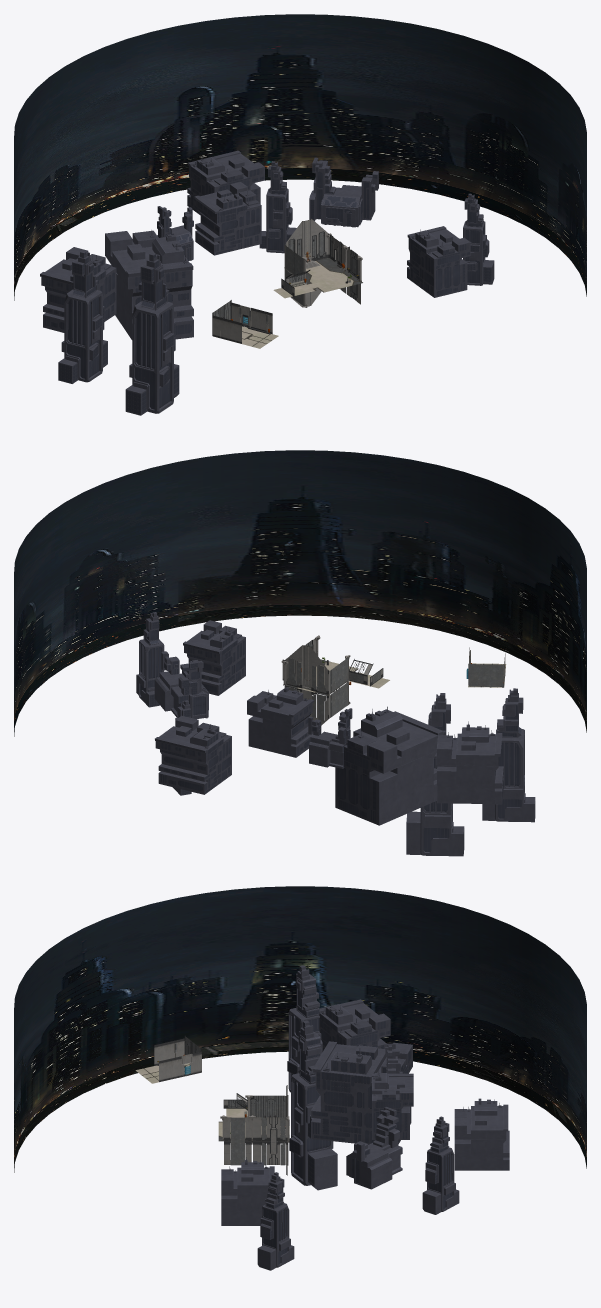
Rendered from env_man_sundari_throne_01_pre.glb.
3 renders of one model, top to bottom at view 1: azimuth 30°, elevation 25°; view 2: azimuth 150°, elevation 25°; view 3: azimuth 270°, elevation 25°, orthographic.
Visible parts, largest first — view 1: brac_skycyllinder_mesh, man_sundari_city_block_02 (3), man_sundari_city_block_01, man_sundari_city_block_02 (4), man_sundari_city_block_01 (1), man_sundari_city_block_01 (3), man_sundari_city_block_03 (1), man_sundari_city_block_01 (4), man_sundari_city_block_01 (2), man_sundari_city_block_02 (1), man_sundari_city_block_02 (2), man_sundari_floor_01 (+3 smaller); view 2: brac_skycyllinder_mesh, man_sundari_city_block_01, man_sundari_city_block_01 (4), man_sundari_city_block_01 (2), man_sundari_city_block_01 (1), man_sundari_city_block_02 (4), man_sundari_city_block_02 (3), man_sundari_city_block_01 (3), man_sundari_city_block_03 (1), man_sundari_city_block_02 (2), man_sundari_city_block_03, man_sundari_wall_01 (+2 smaller); view 3: brac_skycyllinder_mesh, man_sundari_city_block_01, man_sundari_city_block_02 (3), man_sundari_city_block_01 (2), man_sundari_city_block_03 (1), man_sundari_city_block_01 (3), man_sundari_city_block_01 (4), man_sundari_city_block_02 (2), man_sundari_city_block_02 (1), man_sundari_city_block_02 (4), man_sundari_city_block_01 (1), man_sundari_wall_04_glass (+3 smaller).
Part boxes in pixels (x1,y1,x2,y2): brac_skycyllinder_mesh: (14,14,586,300); man_sundari_city_block_02 (3): (125,252,179,415); man_sundari_city_block_01: (105,229,193,339); man_sundari_city_block_02 (4): (58,250,107,383); man_sundari_city_block_01 (1): (194,182,261,255); man_sundari_city_block_01 (3): (407,226,470,297); man_sundari_city_block_03 (1): (309,157,378,227); man_sundari_city_block_01 (4): (40,247,116,332); man_sundari_city_block_01 (2): (187,150,264,215); man_sundari_city_block_02 (1): (259,161,296,253); man_sundari_city_block_02 (2): (463,193,494,285); man_sundari_floor_01: (273,258,362,298); brac_skycyllinder_mesh: (14,450,586,736); man_sundari_city_block_01: (335,706,443,825); man_sundari_city_block_01 (4): (436,721,503,804); man_sundari_city_block_01 (2): (155,715,231,794); man_sundari_city_block_01 (1): (247,684,314,757); man_sundari_city_block_02 (4): (482,688,535,822); man_sundari_city_block_02 (3): (406,693,464,856); man_sundari_city_block_01 (3): (183,620,245,695); man_sundari_city_block_03 (1): (154,651,208,719); man_sundari_city_block_02 (2): (136,612,164,707); man_sundari_city_block_03: (308,708,352,768); man_sundari_wall_01: (285,645,328,694); brac_skycyllinder_mesh: (14,886,586,1172); man_sundari_city_block_01: (311,1041,412,1144); man_sundari_city_block_02 (3): (289,1020,337,1190); man_sundari_city_block_01 (2): (454,1098,509,1170); man_sundari_city_block_03 (1): (346,1107,402,1189); man_sundari_city_block_01 (3): (221,1157,274,1225); man_sundari_city_block_01 (4): (319,999,390,1051); man_sundari_city_block_02 (2): (257,1172,294,1270); man_sundari_city_block_02 (1): (422,1116,459,1214); man_sundari_city_block_02 (4): (287,965,322,1092); man_sundari_city_block_01 (1): (372,1070,413,1139); man_sundari_wall_04_glass: (250,1095,285,1118).
Size of the model in its own units: 224 by 103 by 224.
Materials: 22 (22 with a texture image).
